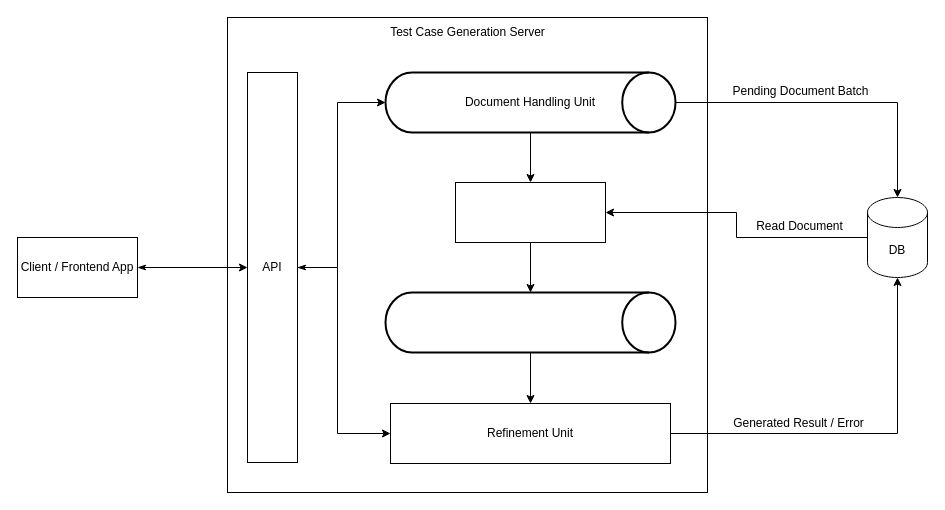
The diagram is 945 pixels wide and 510 high, and some of its shapes have lost their labels. The centre of each missing label's shape, as x and y in pixels:
Scheduler: [530,212]
Text Generation Unit: [530,322]
